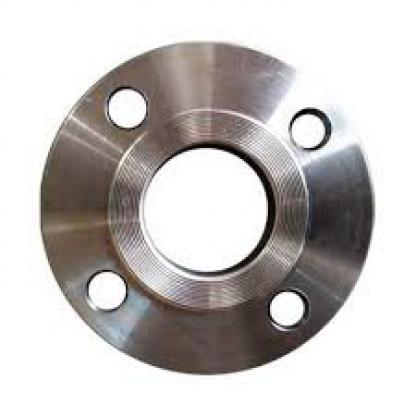FOD: (22, 29, 385, 382)
